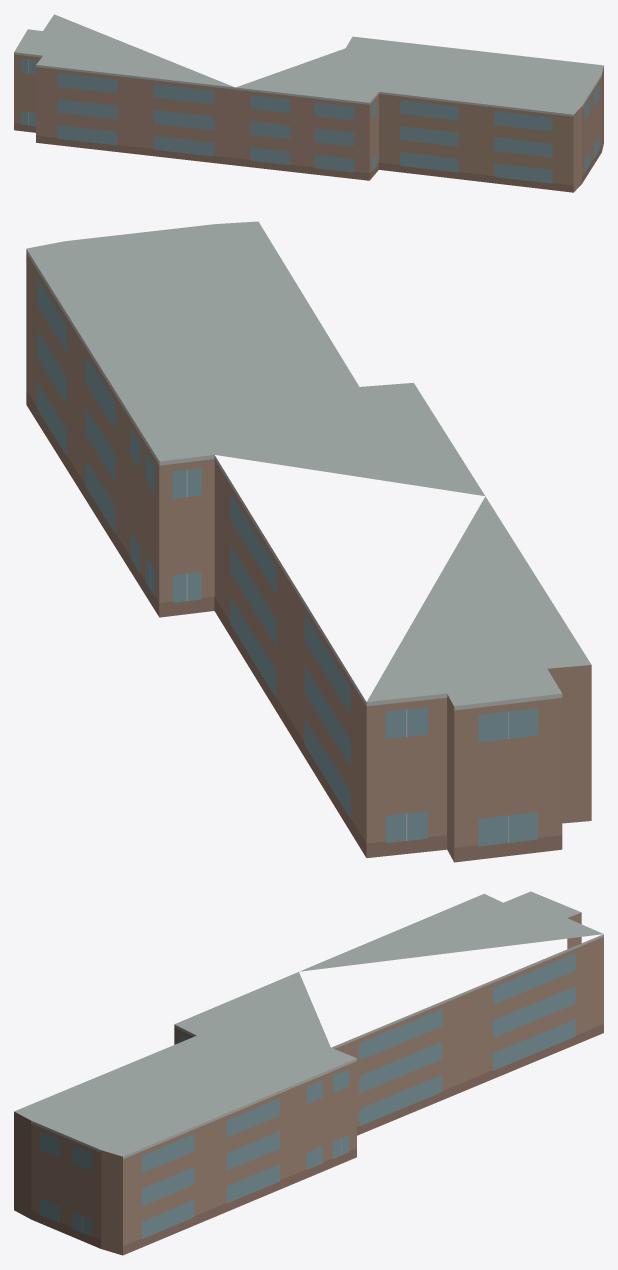
File: survey-upis-32718477.glb
The picture shows the model from 3 angles, top to bottom: view 1: azimuth 30°, elevation 25°; view 2: azimuth 150°, elevation 25°; view 3: azimuth 270°, elevation 25°; orthographic projection. The views are drawn at different scales.
Visible parts, largest first — view 1: survey-upis-32718477.tmp; view 2: survey-upis-32718477.tmp; view 3: survey-upis-32718477.tmp.
Boxes of the visible parts, <box> form: survey-upis-32718477.tmp: <box>14,14,603,192</box>; survey-upis-32718477.tmp: <box>26,221,591,862</box>; survey-upis-32718477.tmp: <box>14,891,603,1255</box>.
Bounding box in the file's own units: 52.66 × 9.15 × 49.49.
